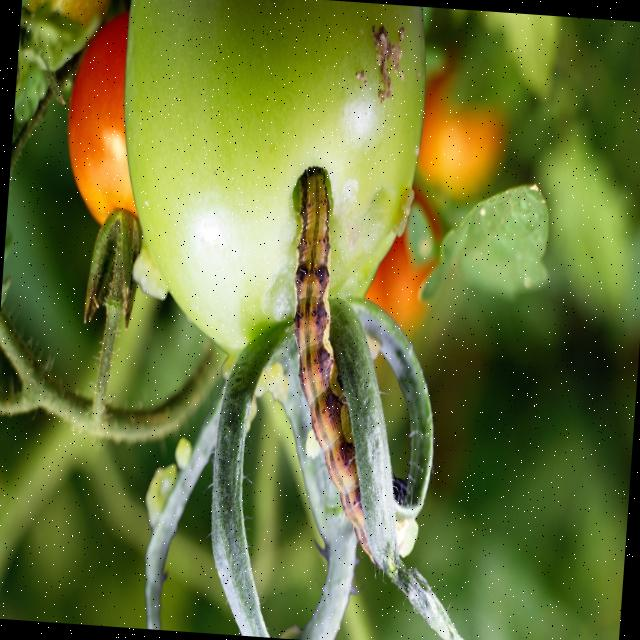worm: (242, 161, 367, 556)
